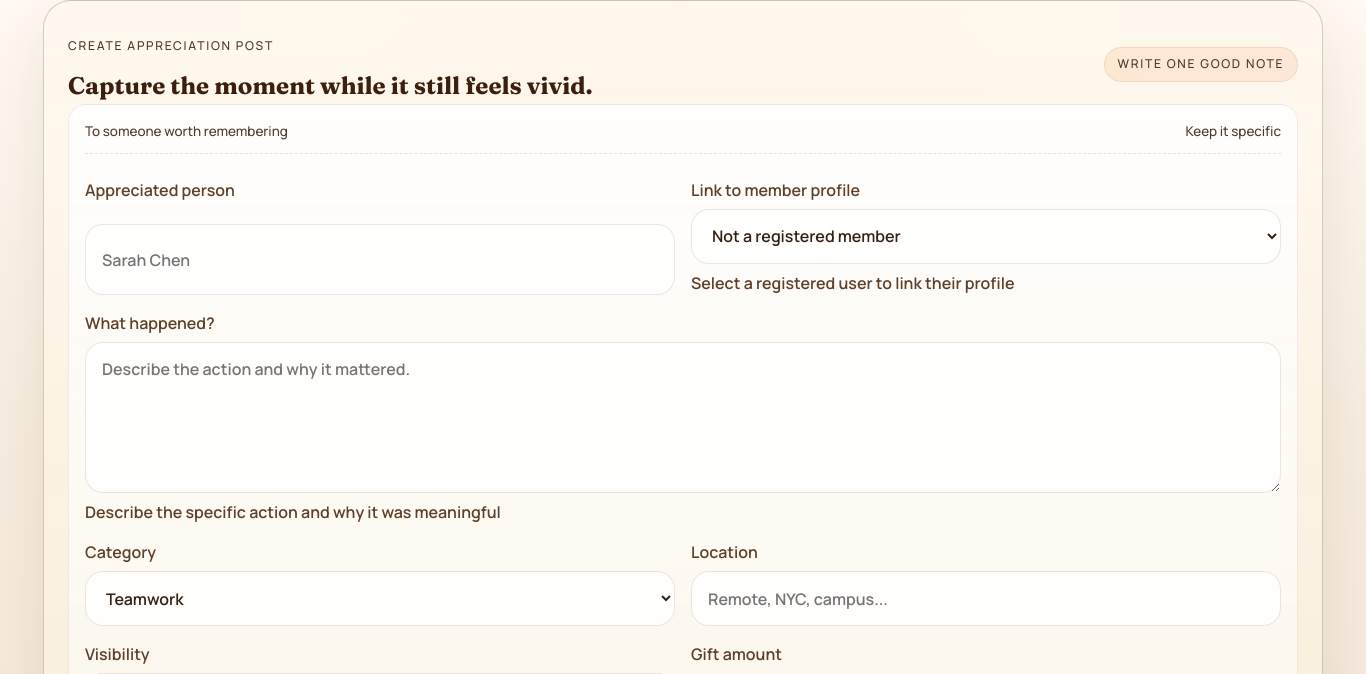
Test: PostComposer › user selection › auto-fills recipient name when user selected
Select "Alice Smith" in the dropdown labelled "Link to member profile" at (986, 236), box [691,209,1281,264]
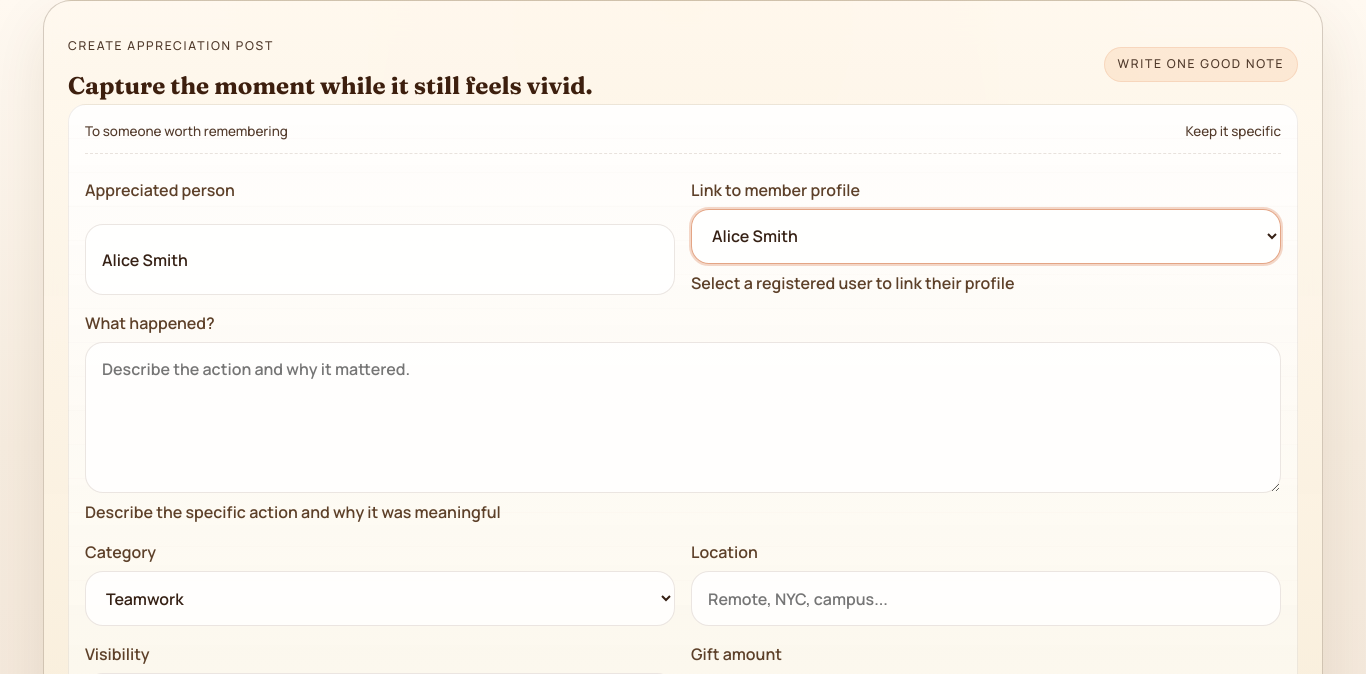
Expected: the field labelled "Appreciated person" holds "Alice Smith", [85,224,675,295]
